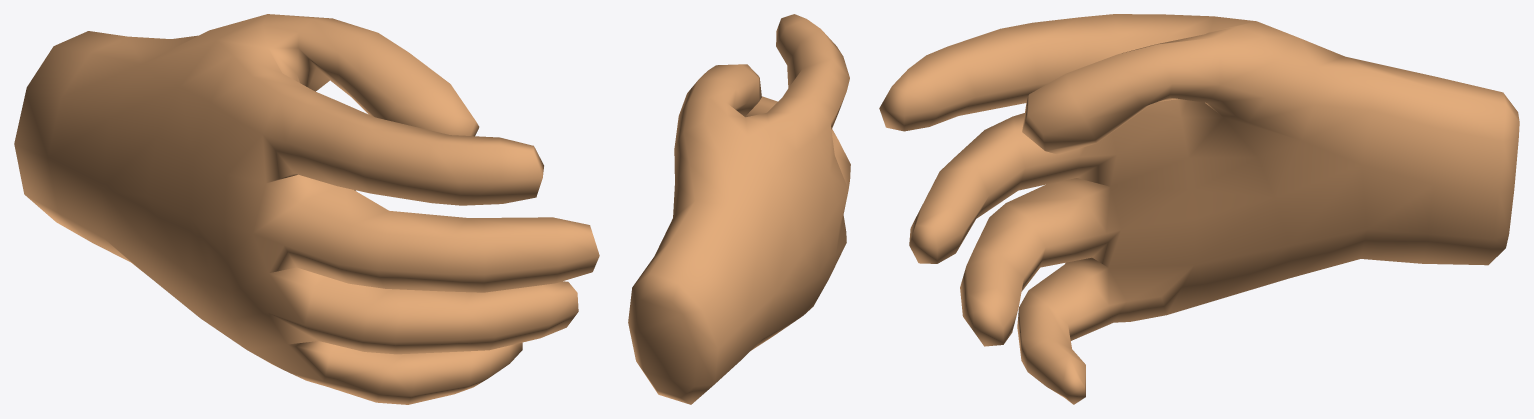
File: right-hand.fbx
3 renders of one model, left to right at view 1: azimuth 30°, elevation 25°; view 2: azimuth 150°, elevation 25°; view 3: azimuth 270°, elevation 25°, orthographic. The views are drawn at different scales.
Parts seen in each view (by area): view 1: tay phai; view 2: tay phai; view 3: tay phai.
Boxes of the visible parts, x1,y1,x2,y2 form: tay phai: (14, 14, 599, 404); tay phai: (628, 14, 850, 404); tay phai: (879, 14, 1519, 404).
Size of the model in its own units: 10.37 by 10.74 by 19.91.
